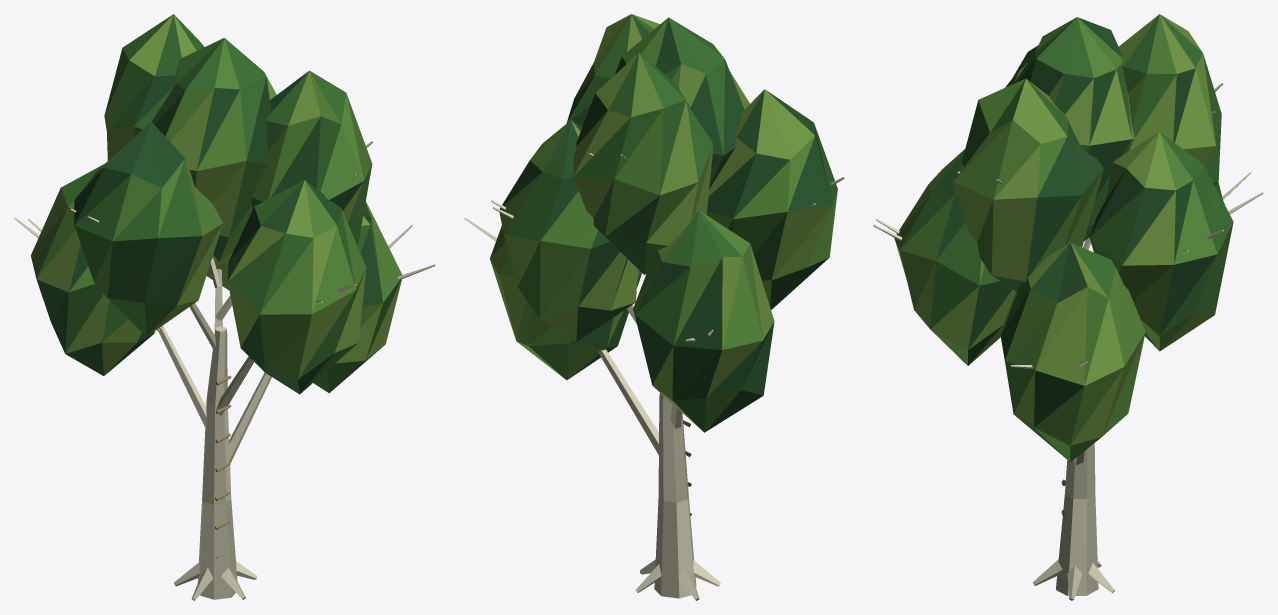
Rendered from tree_birch_green.obj.
3 views of the same model, side by side, from view 1: azimuth 30°, elevation 25°; view 2: azimuth 150°, elevation 25°; view 3: azimuth 270°, elevation 25° (orthographic). The views are drawn at different scales.
Visible parts, largest first — view 1: tree_birch_green; view 2: tree_birch_green; view 3: tree_birch_green.
Part boxes in pixels (x1=…): tree_birch_green: x1=14, y1=14, x2=435, y2=600; tree_birch_green: x1=464, y1=14, x2=844, y2=600; tree_birch_green: x1=873, y1=14, x2=1263, y2=600.
Size of the model in its own units: 323 by 490 by 302.
1 material, 1 textured.
